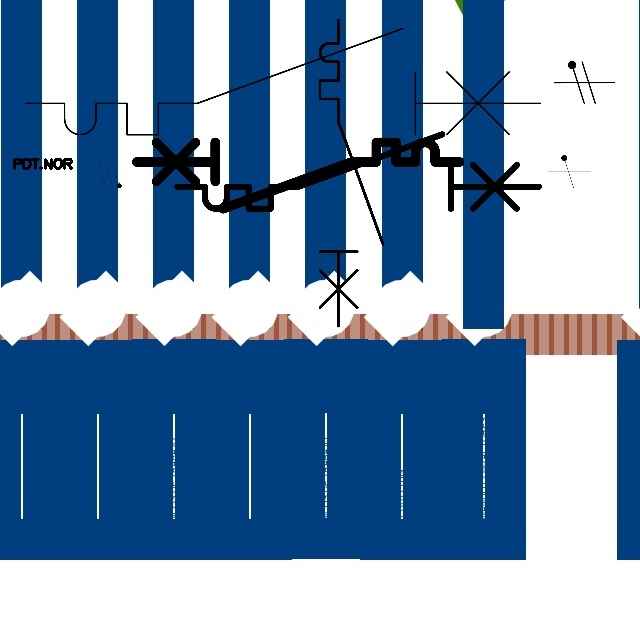interruptor_termomagnetico: (12, 15, 554, 148), (168, 125, 548, 218), (128, 134, 468, 217), (312, 12, 391, 334)
